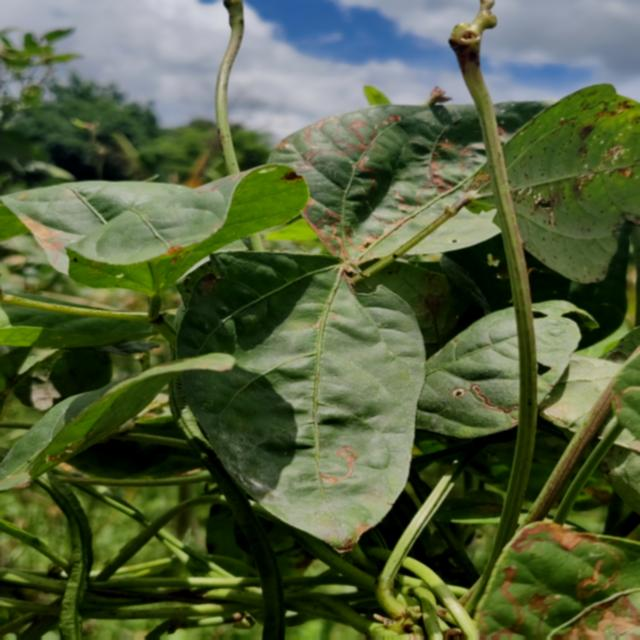10: (176, 402, 265, 544), (243, 504, 285, 640), (56, 483, 88, 640), (55, 482, 81, 640), (78, 543, 84, 585)
sitaw-aphid-high: (177, 250, 469, 551), (0, 165, 309, 321), (0, 353, 235, 491), (416, 307, 519, 438), (531, 300, 581, 403)
sitaw-aphid-low: (269, 103, 486, 263), (504, 84, 640, 283), (475, 519, 640, 640), (410, 207, 500, 255), (495, 100, 556, 142)
